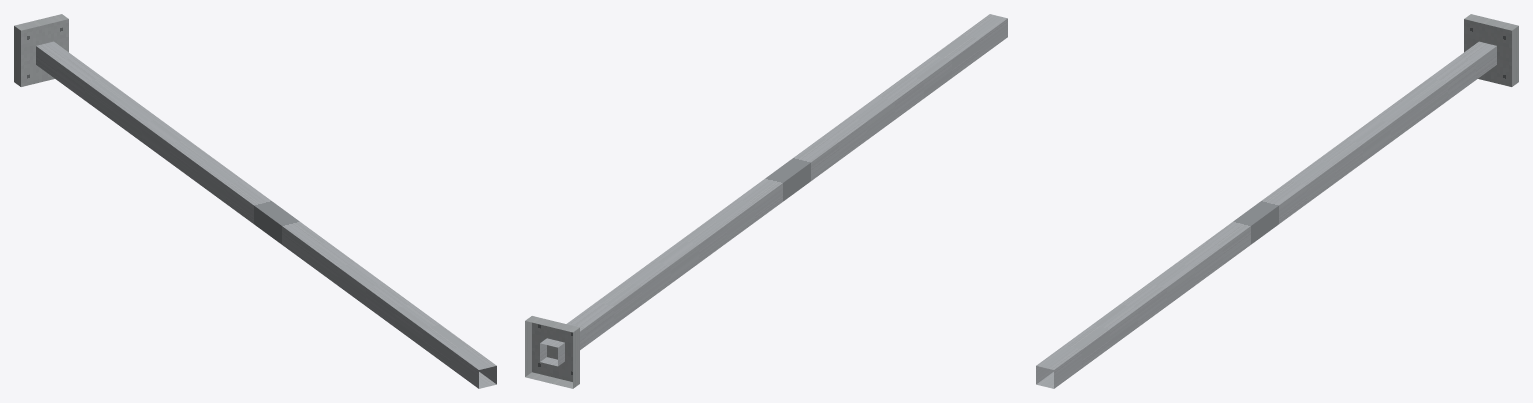
The model's file is opener_rail_4.obj.
3 views of the same model, side by side, from view 1: azimuth 30°, elevation 25°; view 2: azimuth 150°, elevation 25°; view 3: azimuth 330°, elevation 25° (orthographic).
Visible parts, largest first — view 1: rail; view 2: rail; view 3: rail.
Part boxes in pixels (x1,y1,x2,y2): rail: [14, 14, 496, 388]; rail: [525, 14, 1007, 388]; rail: [1036, 14, 1518, 388].
Bounding box in the file's own units: 0.25 × 0.2812 × 4.06.
